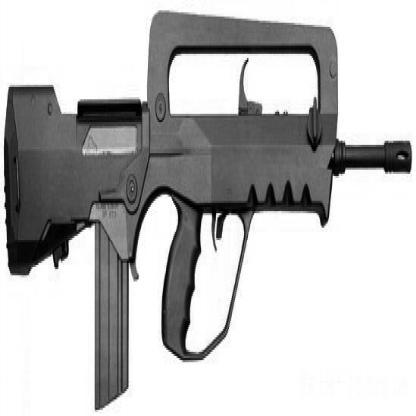gun: (1, 5, 416, 402)
